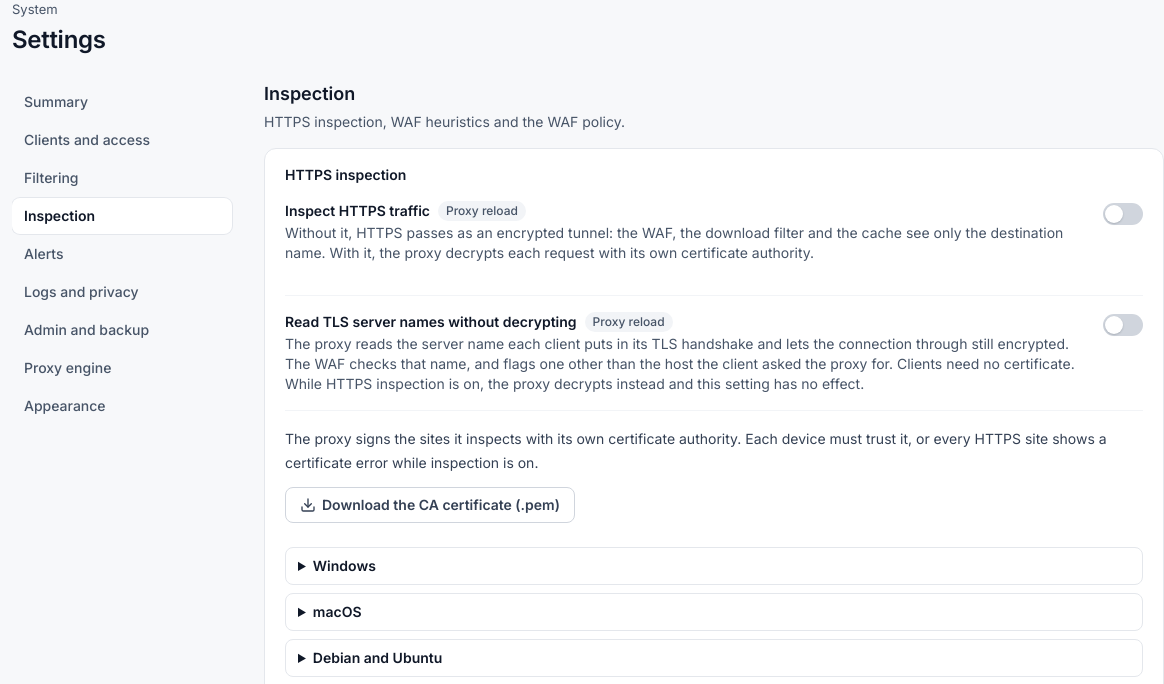
it: Settings sections, part B › Inspection › says the CA does not exist yet instead of blaming the switch
The width and height of the screenshot is (1164, 684).
Step 1. Click the button "Download the CA certificate (.pem)" → (430, 504), box [285,486,575,522]
(page scrolled)
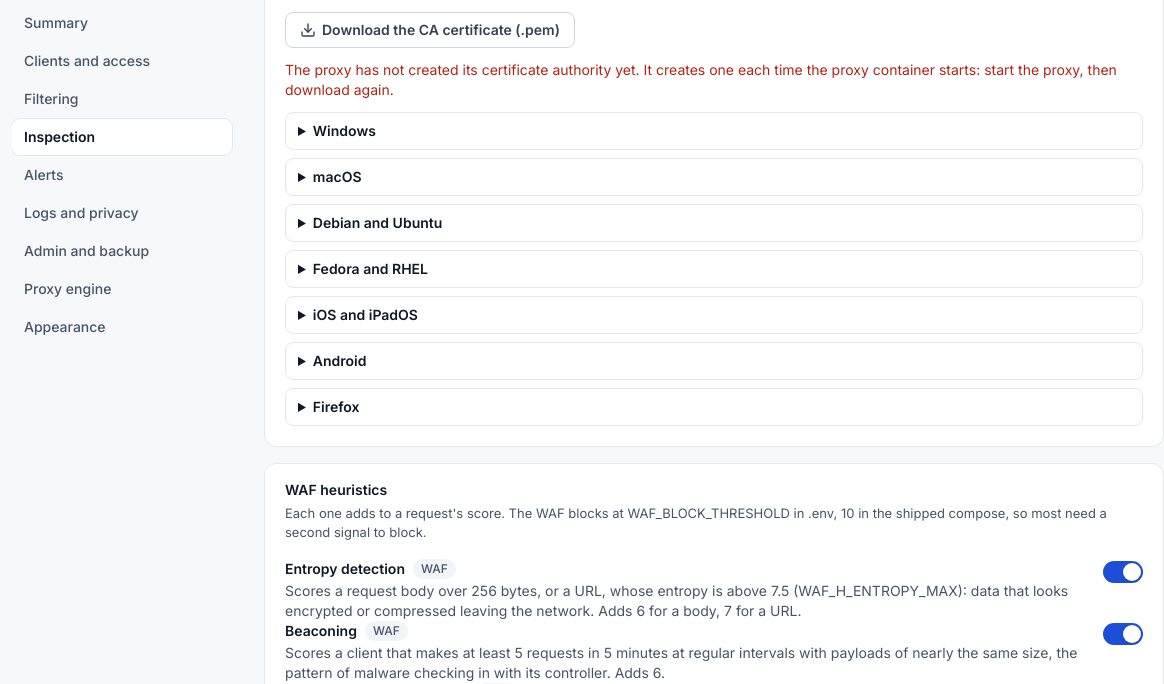
Expected: the heading "macOS" is shown, [313,168,362,184]
Expected: the text "has not created its certificate authority yet" is shown, [285,60,1117,98]
